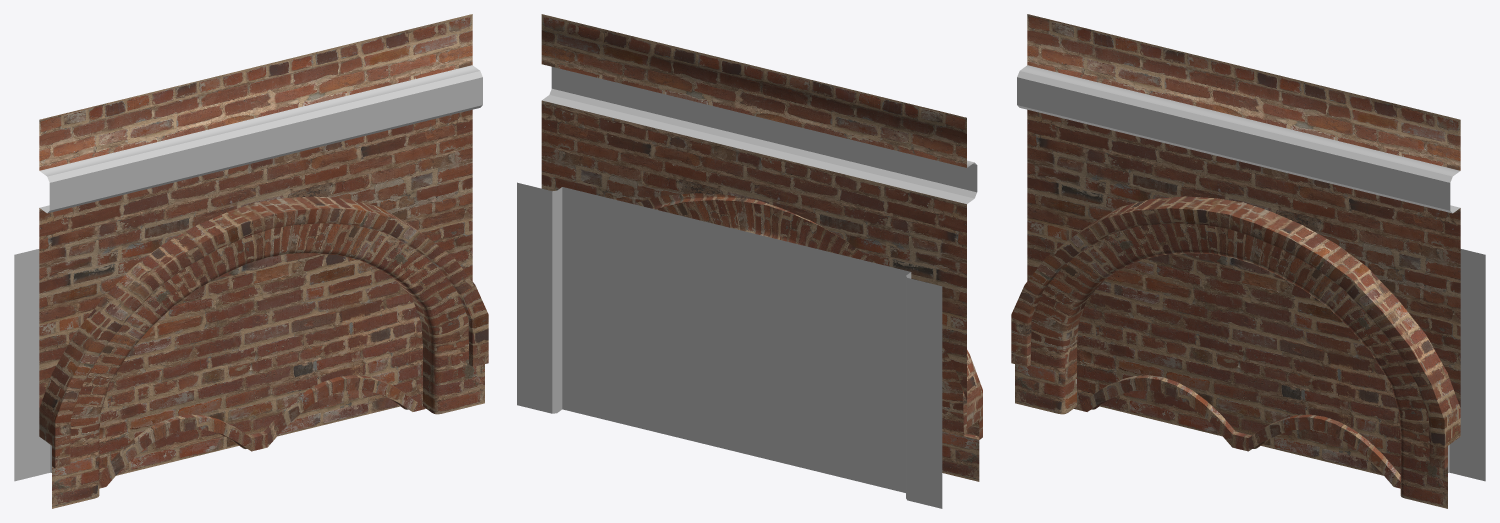
Rendered from SM_Wall_Top.fbx.
3 renders of one model, left to right at view 1: azimuth 30°, elevation 25°; view 2: azimuth 150°, elevation 25°; view 3: azimuth 330°, elevation 25°, orthographic.
Visible parts, largest first — view 1: SM_Wall_Top_LOD0; view 2: SM_Wall_Top_LOD0; view 3: SM_Wall_Top_LOD0.
Boxes of the visible parts, x1,y1,x2,y2 form: SM_Wall_Top_LOD0: (14, 14, 488, 508); SM_Wall_Top_LOD0: (517, 14, 982, 508); SM_Wall_Top_LOD0: (1011, 14, 1485, 508).
Bounding box in the file's own units: 700 × 115 × 587.
